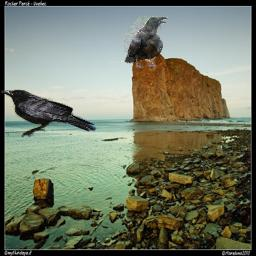Crow: (1, 89, 97, 138), (124, 16, 168, 68)
